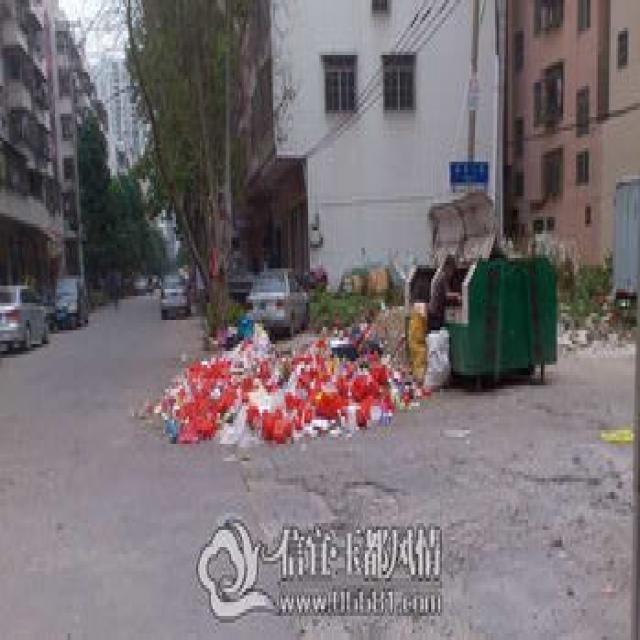garbage: (132, 313, 449, 441)
garbage_bin: (403, 251, 558, 372)
